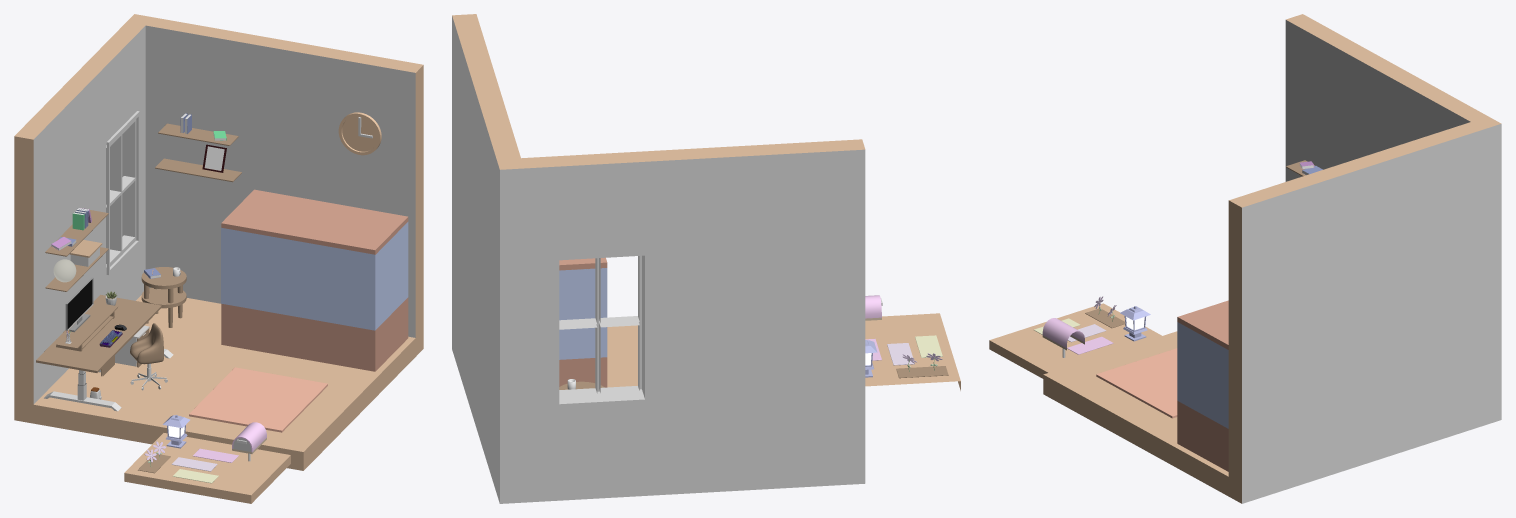
File: iso.glb
The picture shows the model from 3 angles, left to right: view 1: azimuth 30°, elevation 25°; view 2: azimuth 150°, elevation 25°; view 3: azimuth 270°, elevation 25°; orthographic projection. The views are drawn at different scales.
Visible parts, largest first — view 1: Room, Stands, Glass, OutpostBase, Table Top.001, Window.001_Plane.008, Table Top, Clock, Console, Seat, Holder4, Holder2 (+10 smaller); view 2: Room, OutpostBase, Glass, Window.001_Plane.008, Stands; view 3: Room, OutpostBase, Glass, Stands, Table Top.001, Mailbox.
Part boxes in pixels (x1=…): Room: x1=14, y1=14, x2=423, y2=470; Stands: x1=221, y1=189, x2=408, y2=371; Glass: x1=221, y1=222, x2=408, y2=330; OutpostBase: x1=124, y1=433, x2=290, y2=503; Table Top.001: x1=189, y1=367, x2=327, y2=432; Window.001_Plane.008: x1=106, y1=111, x2=139, y2=274; Table Top: x1=36, y1=294, x2=161, y2=372; Clock: x1=338, y1=112, x2=381, y2=155; Console: x1=52, y1=302, x2=118, y2=351; Seat: x1=130, y1=323, x2=163, y2=364; Holder4: x1=155, y1=158, x2=241, y2=182; Holder2: x1=45, y1=210, x2=108, y2=256; Room: x1=452, y1=14, x2=865, y2=503; OutpostBase: x1=865, y1=313, x2=960, y2=390; Glass: x1=559, y1=268, x2=607, y2=359; Window.001_Plane.008: x1=559, y1=255, x2=641, y2=396; Stands: x1=559, y1=257, x2=607, y2=387; Room: x1=1043, y1=14, x2=1501, y2=503; OutpostBase: x1=989, y1=303, x2=1161, y2=378; Glass: x1=1177, y1=322, x2=1228, y2=428; Stands: x1=1177, y1=300, x2=1228, y2=471; Table Top.001: x1=1096, y1=348, x2=1177, y2=418; Mailbox: x1=1042, y1=318, x2=1084, y2=350.
Size of the model in its own units: 27.64 by 19.71 by 30.89.
